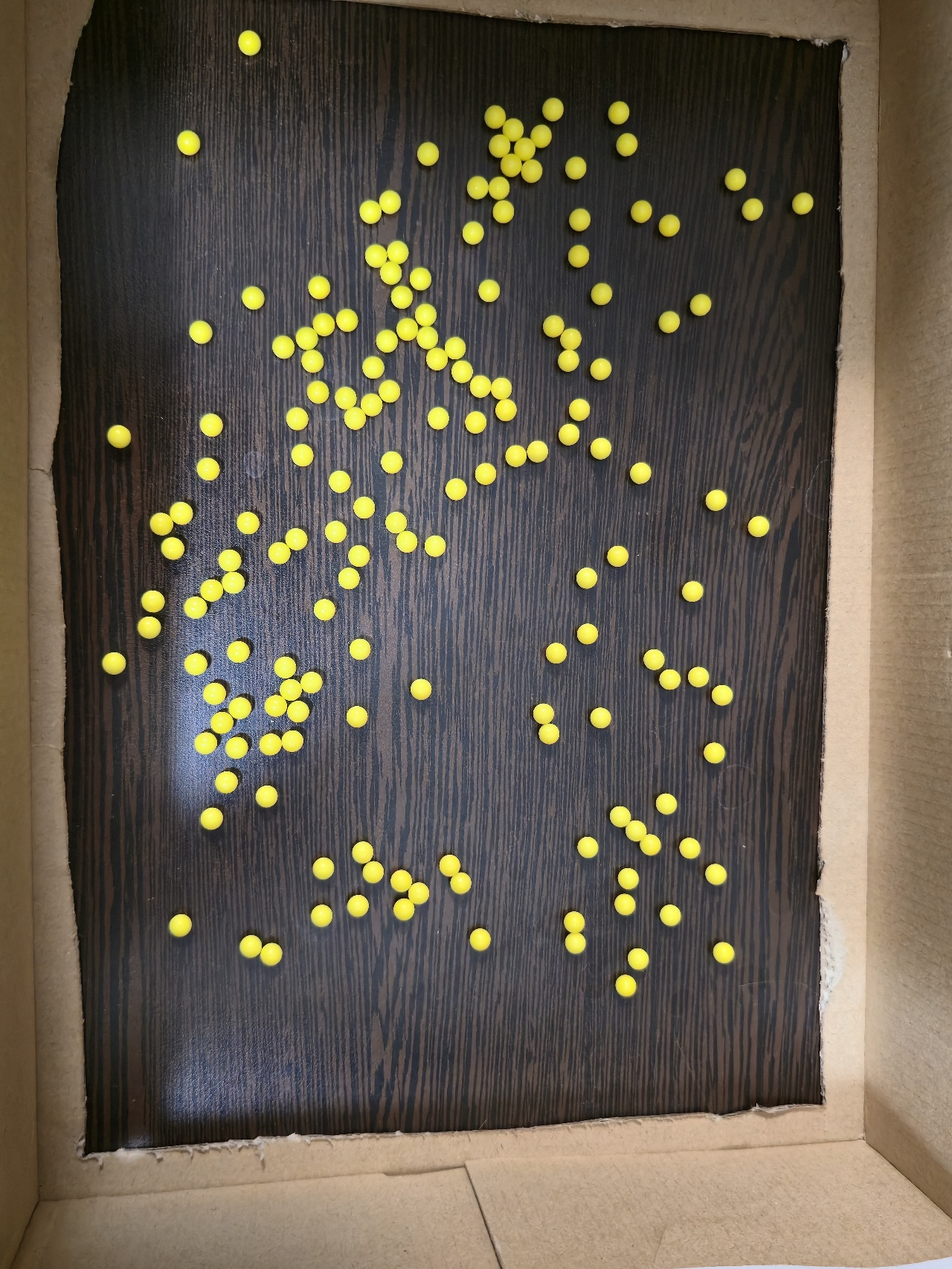yellow_bead: (245, 940, 257, 953), (189, 658, 202, 670), (189, 602, 202, 614), (301, 332, 313, 345), (422, 147, 434, 160), (385, 266, 396, 280), (208, 688, 220, 700), (232, 646, 244, 658), (242, 517, 254, 529), (312, 386, 324, 398), (306, 355, 318, 367), (277, 341, 289, 353), (247, 292, 259, 304), (396, 291, 408, 303), (364, 206, 376, 218), (199, 738, 212, 749), (340, 392, 351, 405), (422, 331, 433, 344), (194, 327, 207, 338), (415, 272, 426, 285), (316, 910, 327, 922), (353, 900, 364, 912), (205, 813, 217, 824), (220, 777, 232, 788), (231, 742, 242, 754), (265, 739, 277, 750), (216, 717, 228, 728), (234, 702, 245, 714), (285, 684, 297, 695), (279, 662, 291, 673), (108, 658, 120, 669), (143, 622, 155, 633), (224, 555, 236, 566), (353, 550, 364, 562), (274, 547, 285, 559), (390, 517, 402, 528), (175, 507, 187, 518), (358, 502, 370, 513), (202, 463, 213, 475), (296, 449, 308, 460), (113, 431, 125, 442), (205, 419, 216, 431), (292, 413, 303, 425), (366, 399, 377, 411), (384, 385, 395, 397), (475, 380, 486, 392), (367, 362, 379, 373), (431, 353, 443, 364), (382, 335, 393, 347), (341, 314, 353, 325), (420, 309, 431, 321), (370, 251, 382, 262), (498, 205, 509, 217), (385, 196, 396, 208), (472, 181, 483, 193), (570, 937, 581, 948), (665, 910, 676, 921), (396, 876, 407, 887), (368, 867, 379, 878), (318, 863, 329, 874), (261, 791, 272, 802), (292, 706, 303, 717), (306, 677, 317, 688), (205, 585, 216, 596), (167, 542, 178, 553), (291, 533, 302, 544), (754, 521, 765, 532), (451, 483, 462, 494), (334, 476, 345, 487), (386, 457, 397, 468), (495, 383, 506, 394), (457, 366, 468, 377), (565, 334, 576, 345), (596, 289, 607, 300), (484, 285, 495, 296), (266, 948, 276, 960), (718, 948, 730, 958), (175, 919, 185, 931), (399, 904, 409, 916), (147, 596, 159, 606), (501, 403, 511, 415), (450, 342, 460, 354), (468, 227, 478, 239), (527, 165, 537, 177), (548, 103, 558, 115), (475, 934, 485, 945), (621, 899, 631, 910), (624, 873, 634, 884), (287, 736, 298, 746), (352, 711, 362, 722), (538, 709, 549, 719), (270, 700, 280, 711), (355, 644, 365, 655), (319, 604, 329, 615), (344, 573, 355, 583), (402, 536, 412, 547), (330, 527, 341, 537), (635, 468, 646, 478), (480, 468, 491, 478), (511, 450, 521, 461), (533, 446, 543, 457), (596, 443, 606, 454), (471, 417, 481, 428), (433, 413, 444, 423), (350, 412, 360, 423), (575, 404, 585, 415), (564, 355, 574, 366), (402, 324, 412, 335), (548, 321, 559, 331), (664, 317, 675, 327), (313, 282, 324, 292), (392, 246, 403, 256), (575, 214, 585, 225), (571, 162, 581, 173), (358, 846, 367, 858), (318, 318, 327, 330), (495, 182, 504, 194), (621, 980, 631, 990), (456, 878, 466, 888), (584, 842, 594, 852), (615, 812, 625, 822), (662, 799, 672, 809), (688, 586, 698, 596), (430, 541, 440, 551), (596, 364, 606, 374), (696, 300, 706, 310), (748, 204, 758, 214), (798, 198, 808, 208), (731, 174, 741, 184), (634, 954, 643, 965), (570, 917, 579, 928), (414, 888, 423, 899), (155, 518, 164, 529), (573, 251, 584, 260), (623, 139, 632, 150), (711, 870, 721, 879), (445, 860, 454, 870), (645, 840, 655, 849), (631, 826, 641, 835), (710, 748, 720, 757), (544, 729, 554, 738), (416, 684, 426, 693), (665, 675, 675, 684), (694, 672, 704, 681), (649, 655, 659, 664), (552, 648, 562, 657), (582, 629, 592, 638), (582, 573, 592, 582), (613, 551, 623, 560), (712, 495, 721, 505), (565, 429, 574, 439), (637, 206, 646, 216), (495, 140, 505, 149), (509, 124, 518, 134), (231, 577, 239, 588), (686, 844, 695, 853), (596, 713, 605, 722), (718, 690, 727, 699), (617, 107, 624, 118), (491, 111, 501, 118), (539, 130, 547, 138), (668, 220, 675, 227), (524, 144, 530, 151), (511, 164, 515, 167), (191, 140, 194, 142), (229, 578, 230, 579)
